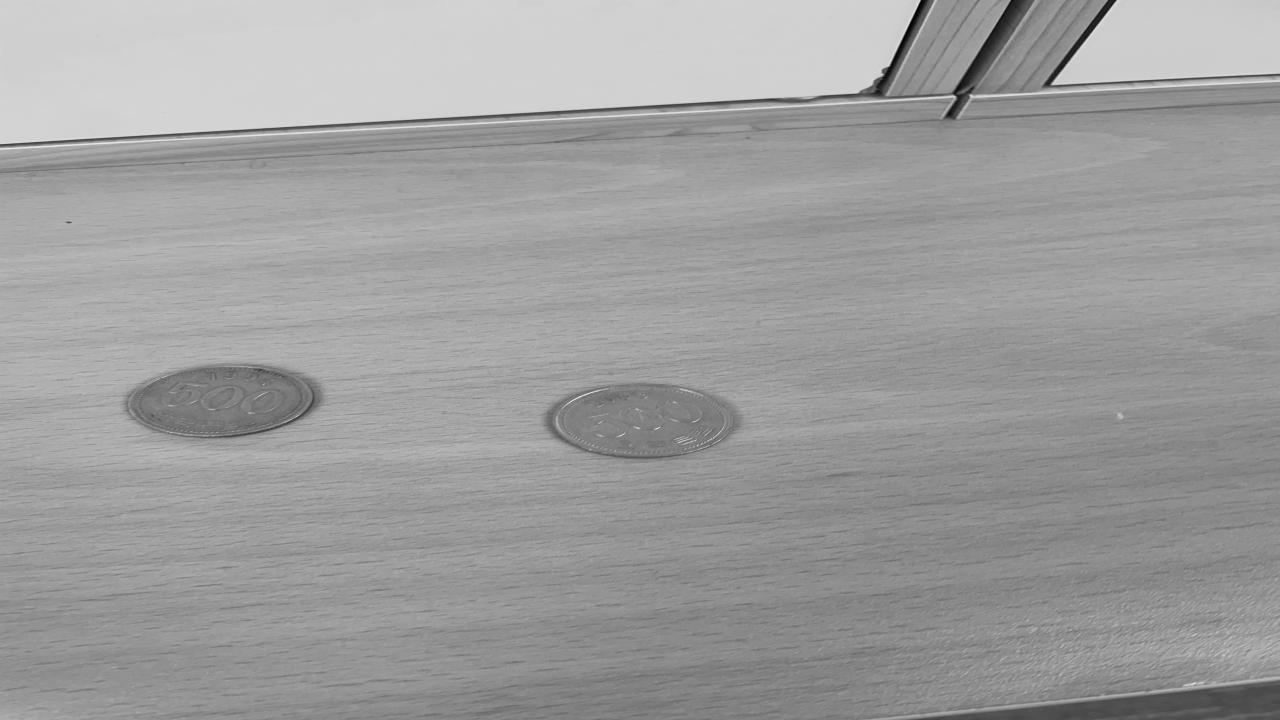coin: (124, 365, 316, 439), (550, 384, 736, 460)
